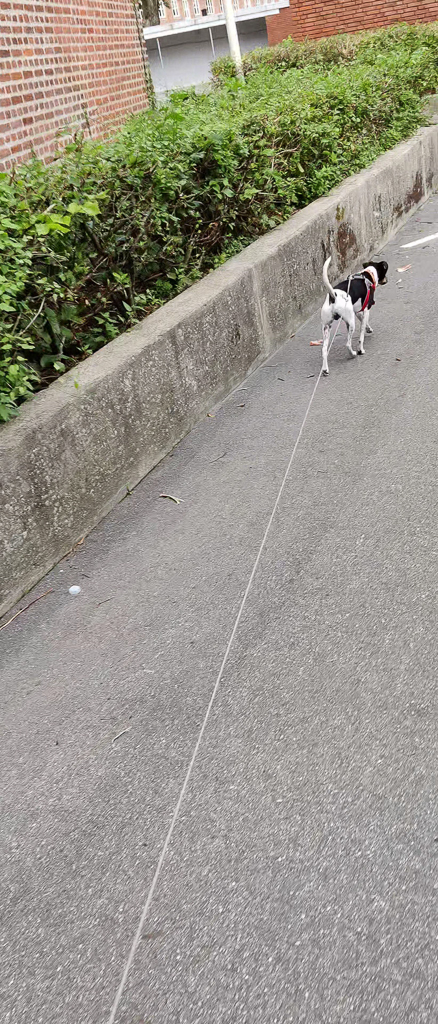Dog: (306, 251, 403, 380)
